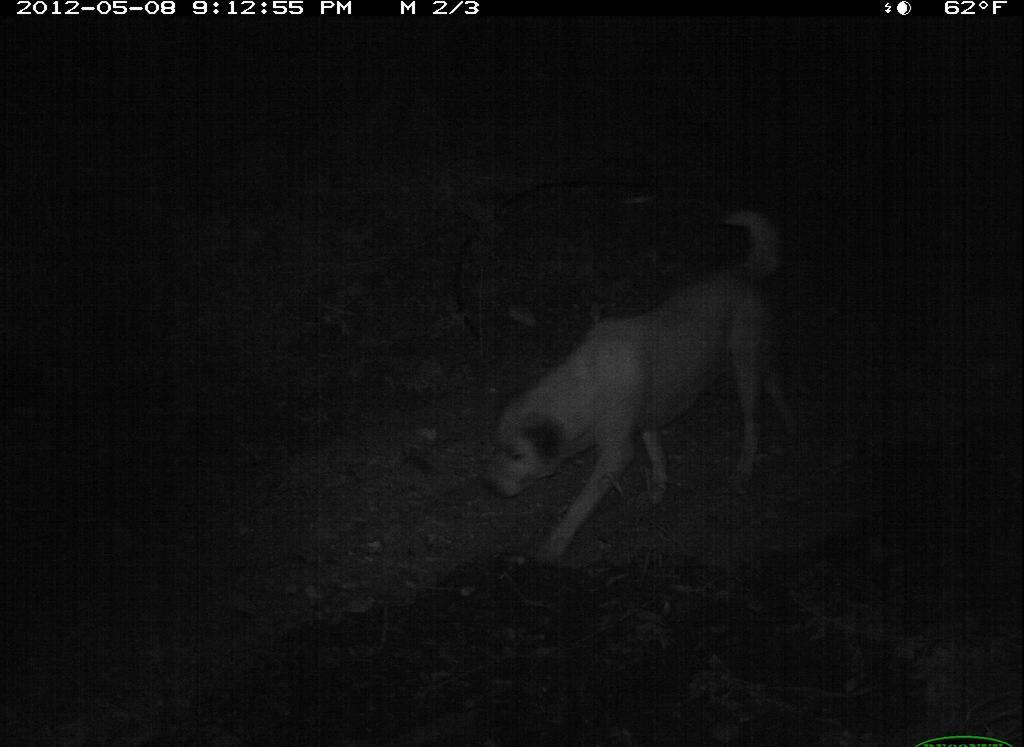dog: (466, 203, 821, 574)
